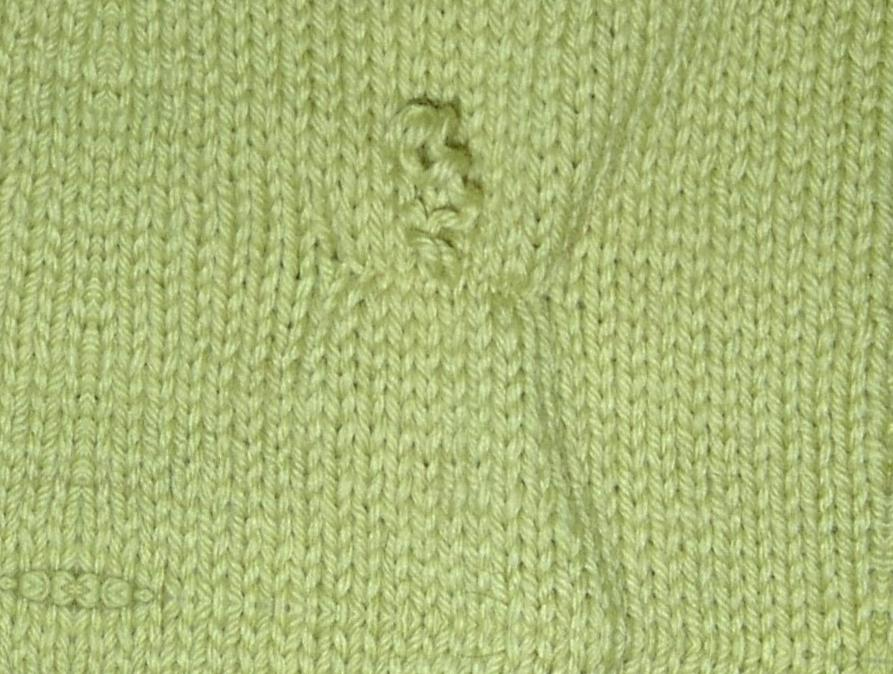knot: (371, 87, 491, 286)
